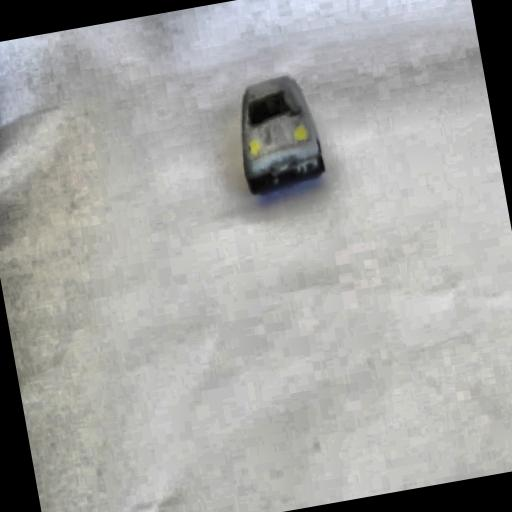normal_car: (228, 70, 330, 194)
